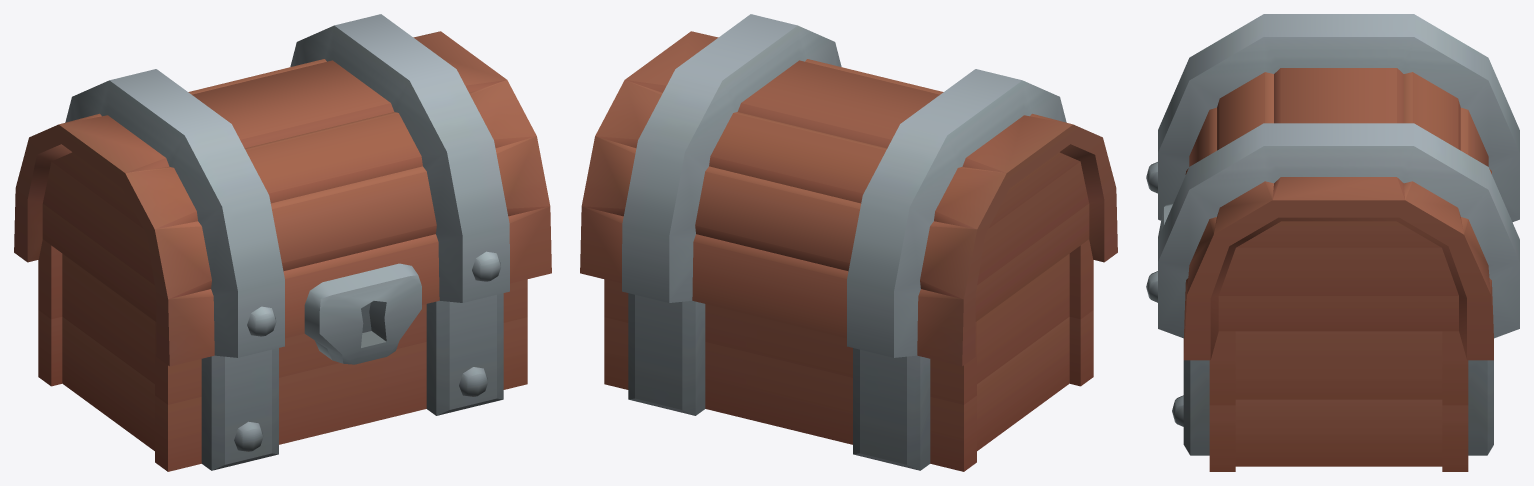
Rendered from chest.glb.
3 views of the same model, side by side, from view 1: azimuth 30°, elevation 25°; view 2: azimuth 150°, elevation 25°; view 3: azimuth 270°, elevation 25° (orthographic).
Visible parts, largest first — view 1: chest_gold_lid, chest_gold; view 2: chest_gold_lid, chest_gold; view 3: chest_gold_lid, chest_gold.
Part boxes in pixels (x1,y1,x2,y2): chest_gold_lid: (14, 14, 551, 366); chest_gold: (38, 239, 527, 471); chest_gold_lid: (580, 14, 1117, 366); chest_gold: (604, 239, 1093, 471); chest_gold_lid: (1146, 14, 1519, 360); chest_gold: (1172, 331, 1493, 471).
Size of the model in its own units: 1.7 by 1.3 by 1.45.
1 material, 1 textured.
